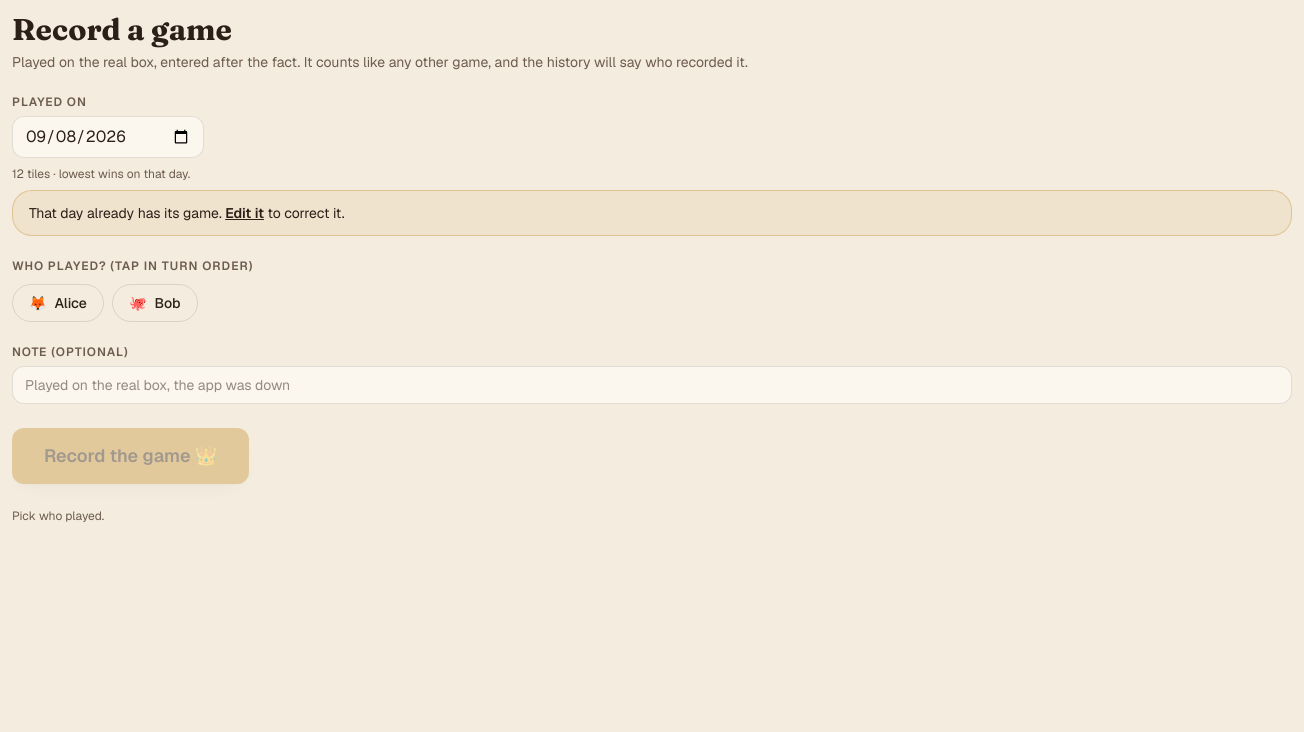
Scenario: RecordGameForm › lets the date change to a free day
Click the button "🦊 Alice".
click(58, 303)  # box [12,284,104,322]
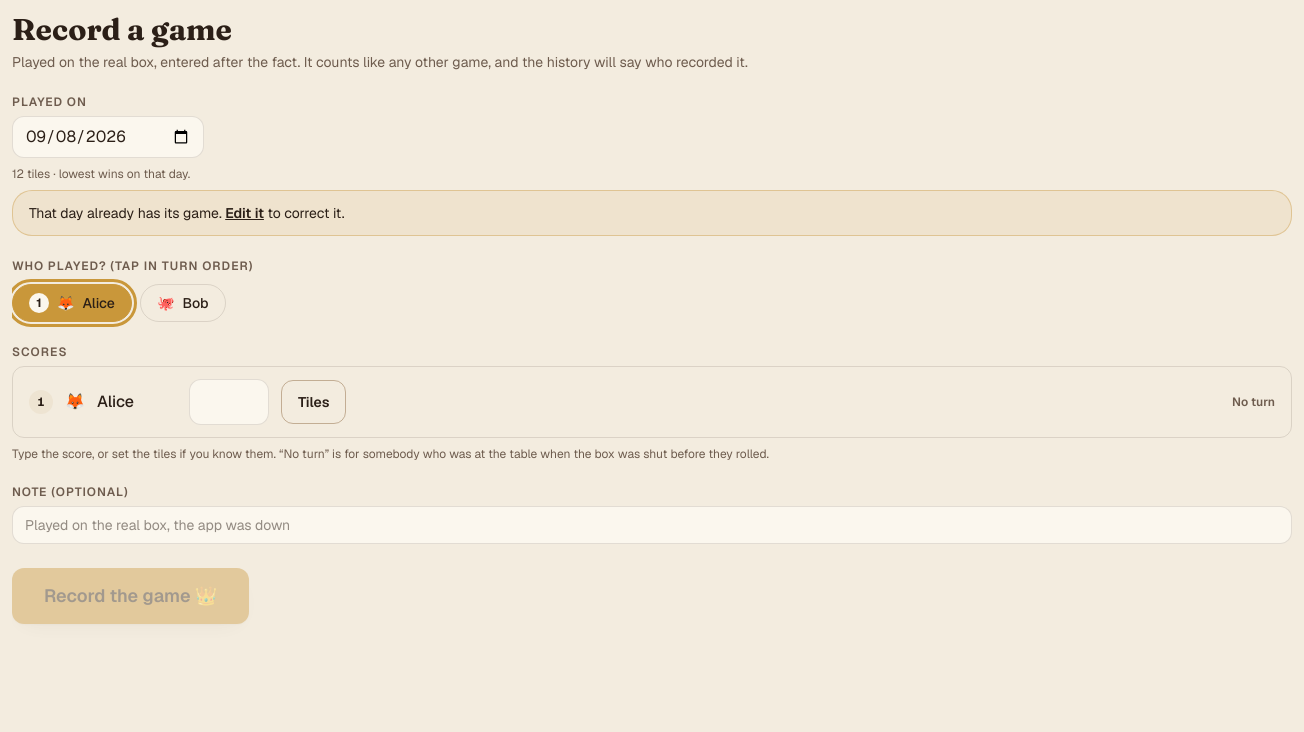
Type "4" into the number field named "Score for Alice".
click(229, 402); type("4")  # box [189,379,269,425]
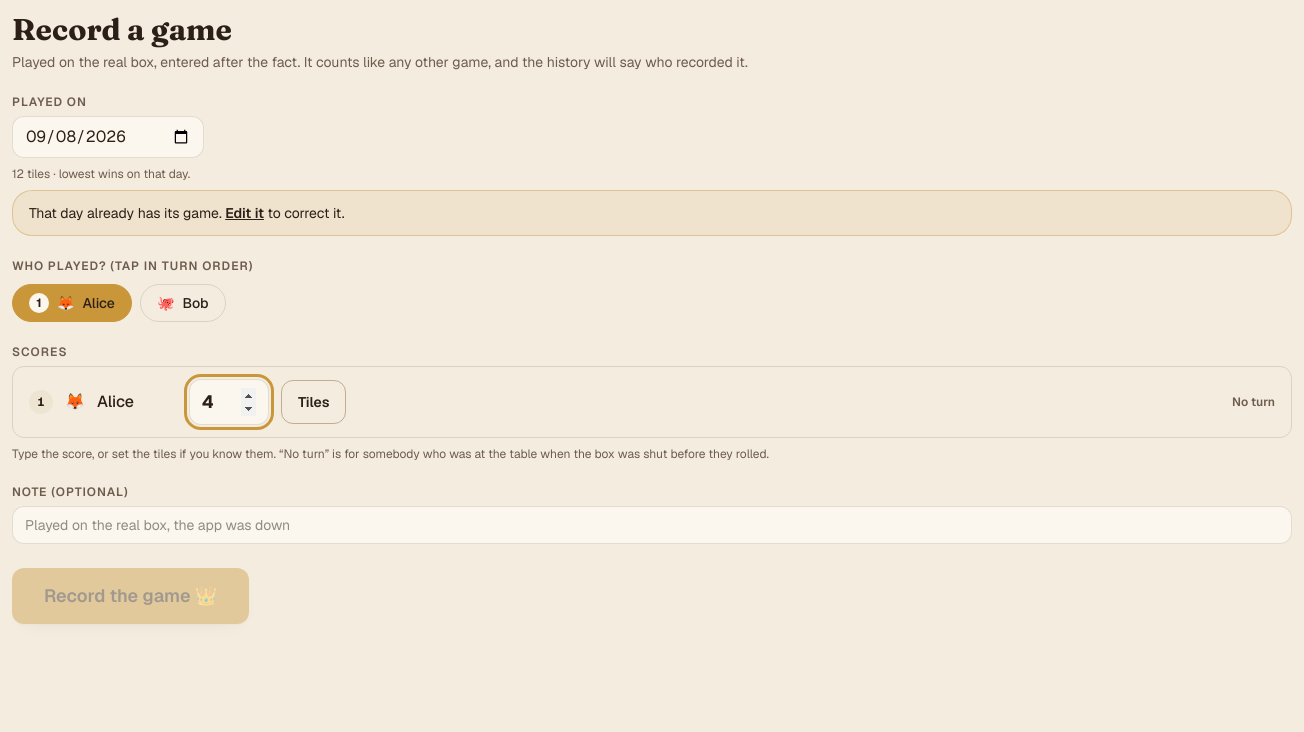
Type "2026-09-07" into the date field labelled "Played on".
click(108, 137); type("2026-09-07")  # box [12,116,204,158]
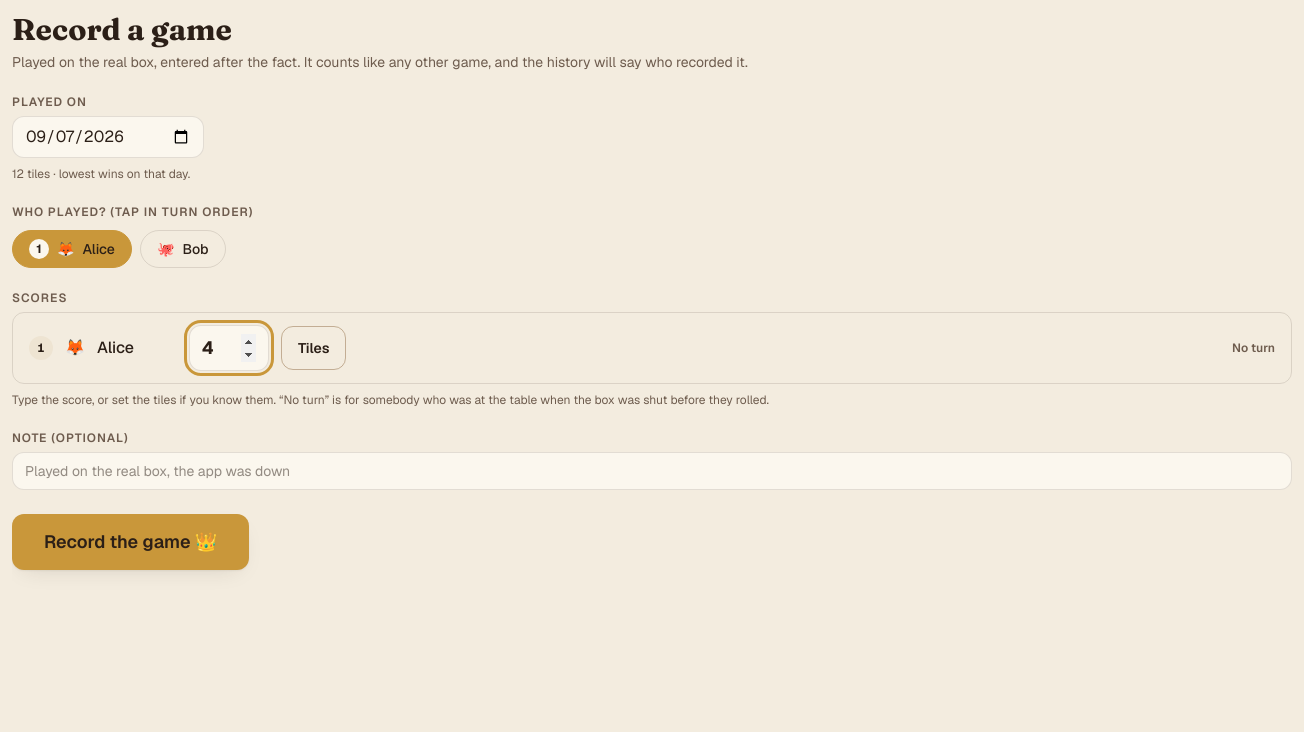
Now the link "Edit it" is gone
Now the button "Record the game 👑" is enabled, box [12,514,249,570]
